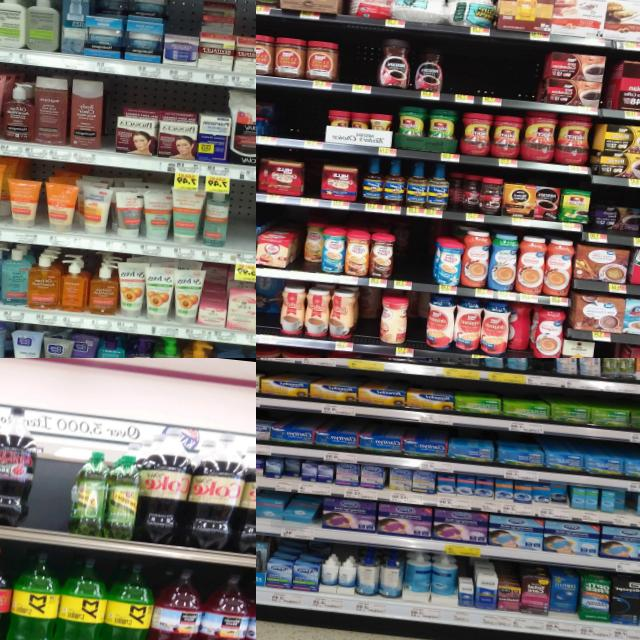100% O.O.S: (476, 42, 546, 110), (273, 90, 328, 148), (338, 30, 380, 93), (442, 40, 482, 103), (397, 233, 432, 290), (525, 358, 555, 385)
100- O.O.S: (31, 452, 73, 544), (224, 183, 256, 270)
